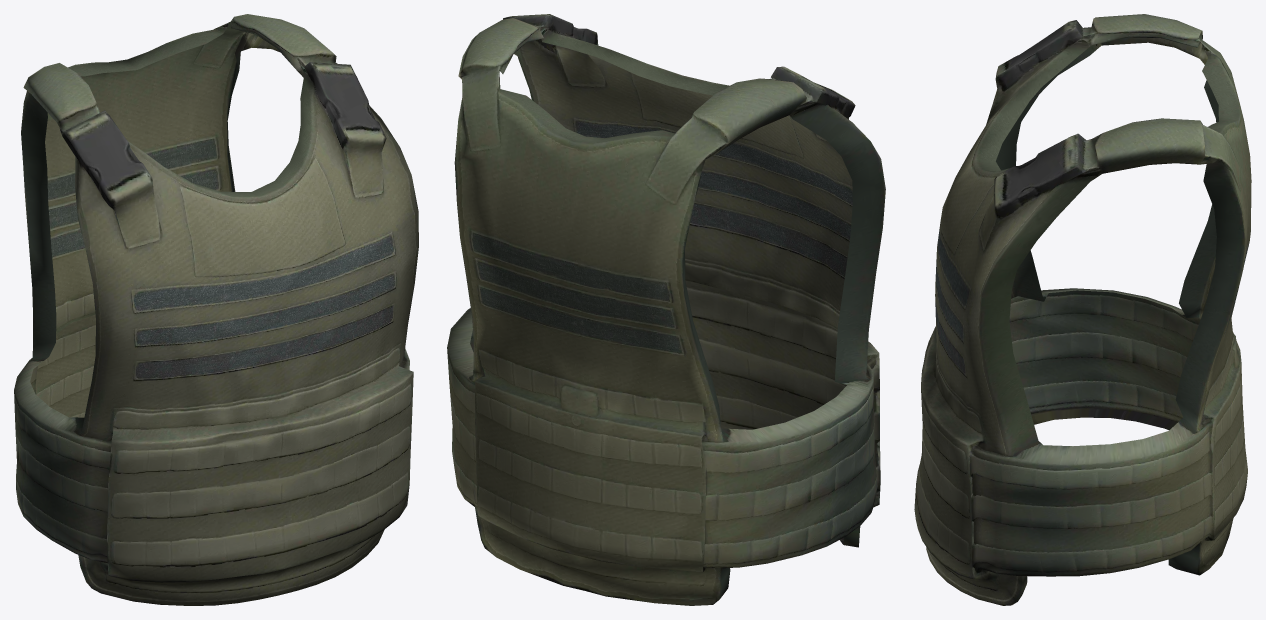
Rendered from vest_t2.glb.
The picture shows the model from 3 angles, left to right: view 1: azimuth 30°, elevation 25°; view 2: azimuth 150°, elevation 25°; view 3: azimuth 270°, elevation 25°; orthographic projection. The views are drawn at different scales.
Parts seen in each view (by area): view 1: vest_t2; view 2: vest_t2; view 3: vest_t2.
Part boxes in pixels (x1,y1,x2,y2): vest_t2: (14, 14, 418, 605); vest_t2: (447, 14, 885, 605); vest_t2: (914, 14, 1251, 605).
Bounding box in the file's own units: 0.4482 × 0.56 × 0.3645.
Materials: 1 (1 with a texture image).
